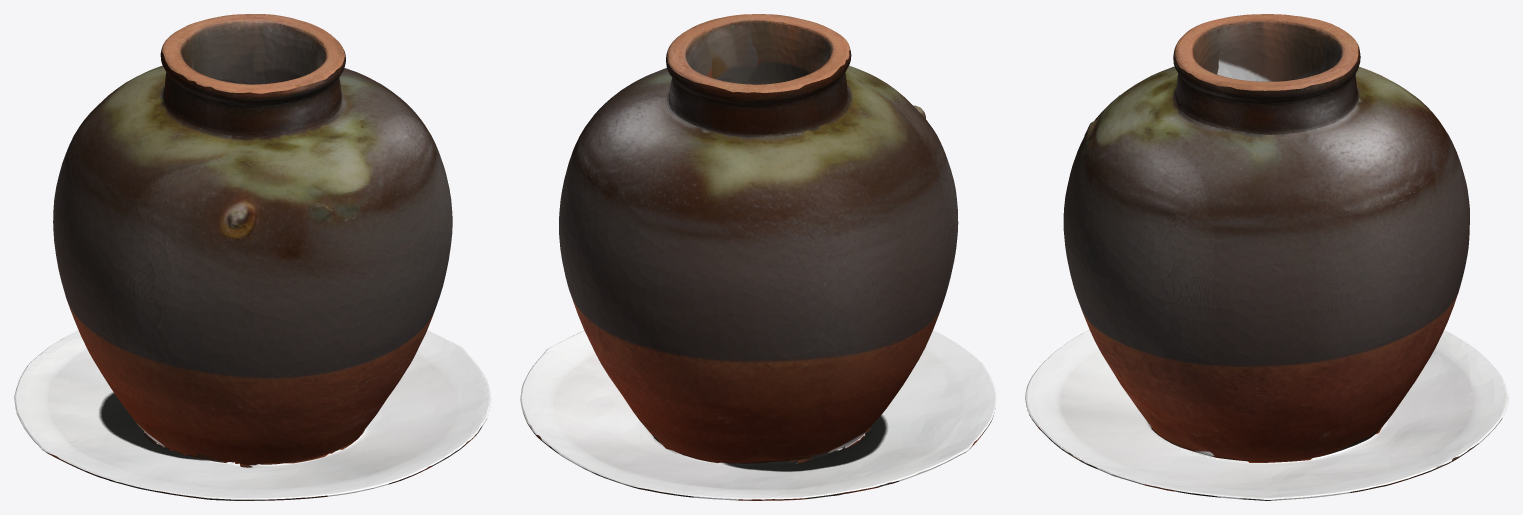
Rendered from traveler_env_coast_smooth_hoshi_storage_jar_00001_.glb.
3 views of the same model, side by side, from view 1: azimuth 30°, elevation 25°; view 2: azimuth 150°, elevation 25°; view 3: azimuth 270°, elevation 25° (orthographic).
Parts seen in each view (by area): view 1: temp_mesh.ply; view 2: temp_mesh.ply; view 3: temp_mesh.ply.
Boxes of the visible parts, <box> form: temp_mesh.ply: <box>14,14,491,500</box>; temp_mesh.ply: <box>520,14,996,500</box>; temp_mesh.ply: <box>1025,14,1508,500</box>.
Size of the model in its own units: 1.97 by 1.75 by 1.97.
Materials: 1 (1 with a texture image).
